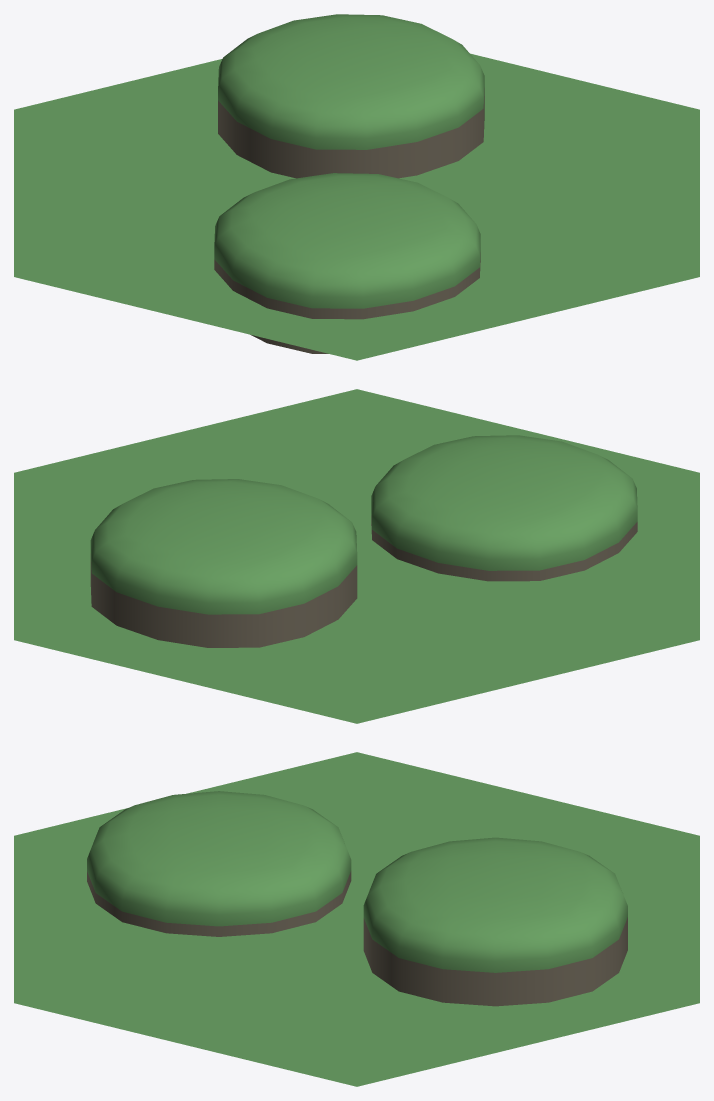
Rendered from t_twohump.fbx.
3 views of the same model, one above another, from view 1: azimuth 30°, elevation 25°; view 2: azimuth 150°, elevation 25°; view 3: azimuth 270°, elevation 25° (orthographic).
Visible parts, largest first — view 1: t_blank2, pCube105; view 2: t_blank2, pCube105; view 3: t_blank2, pCube105.
Boxes of the visible parts, x1,y1,x2,y2 form: t_blank2: (14, 53, 699, 360); pCube105: (214, 14, 484, 353); t_blank2: (14, 389, 699, 723); pCube105: (90, 435, 637, 647); t_blank2: (14, 752, 699, 1086); pCube105: (87, 791, 627, 1006).
Size of the model in its own units: 20000 by 3098 by 17321.
